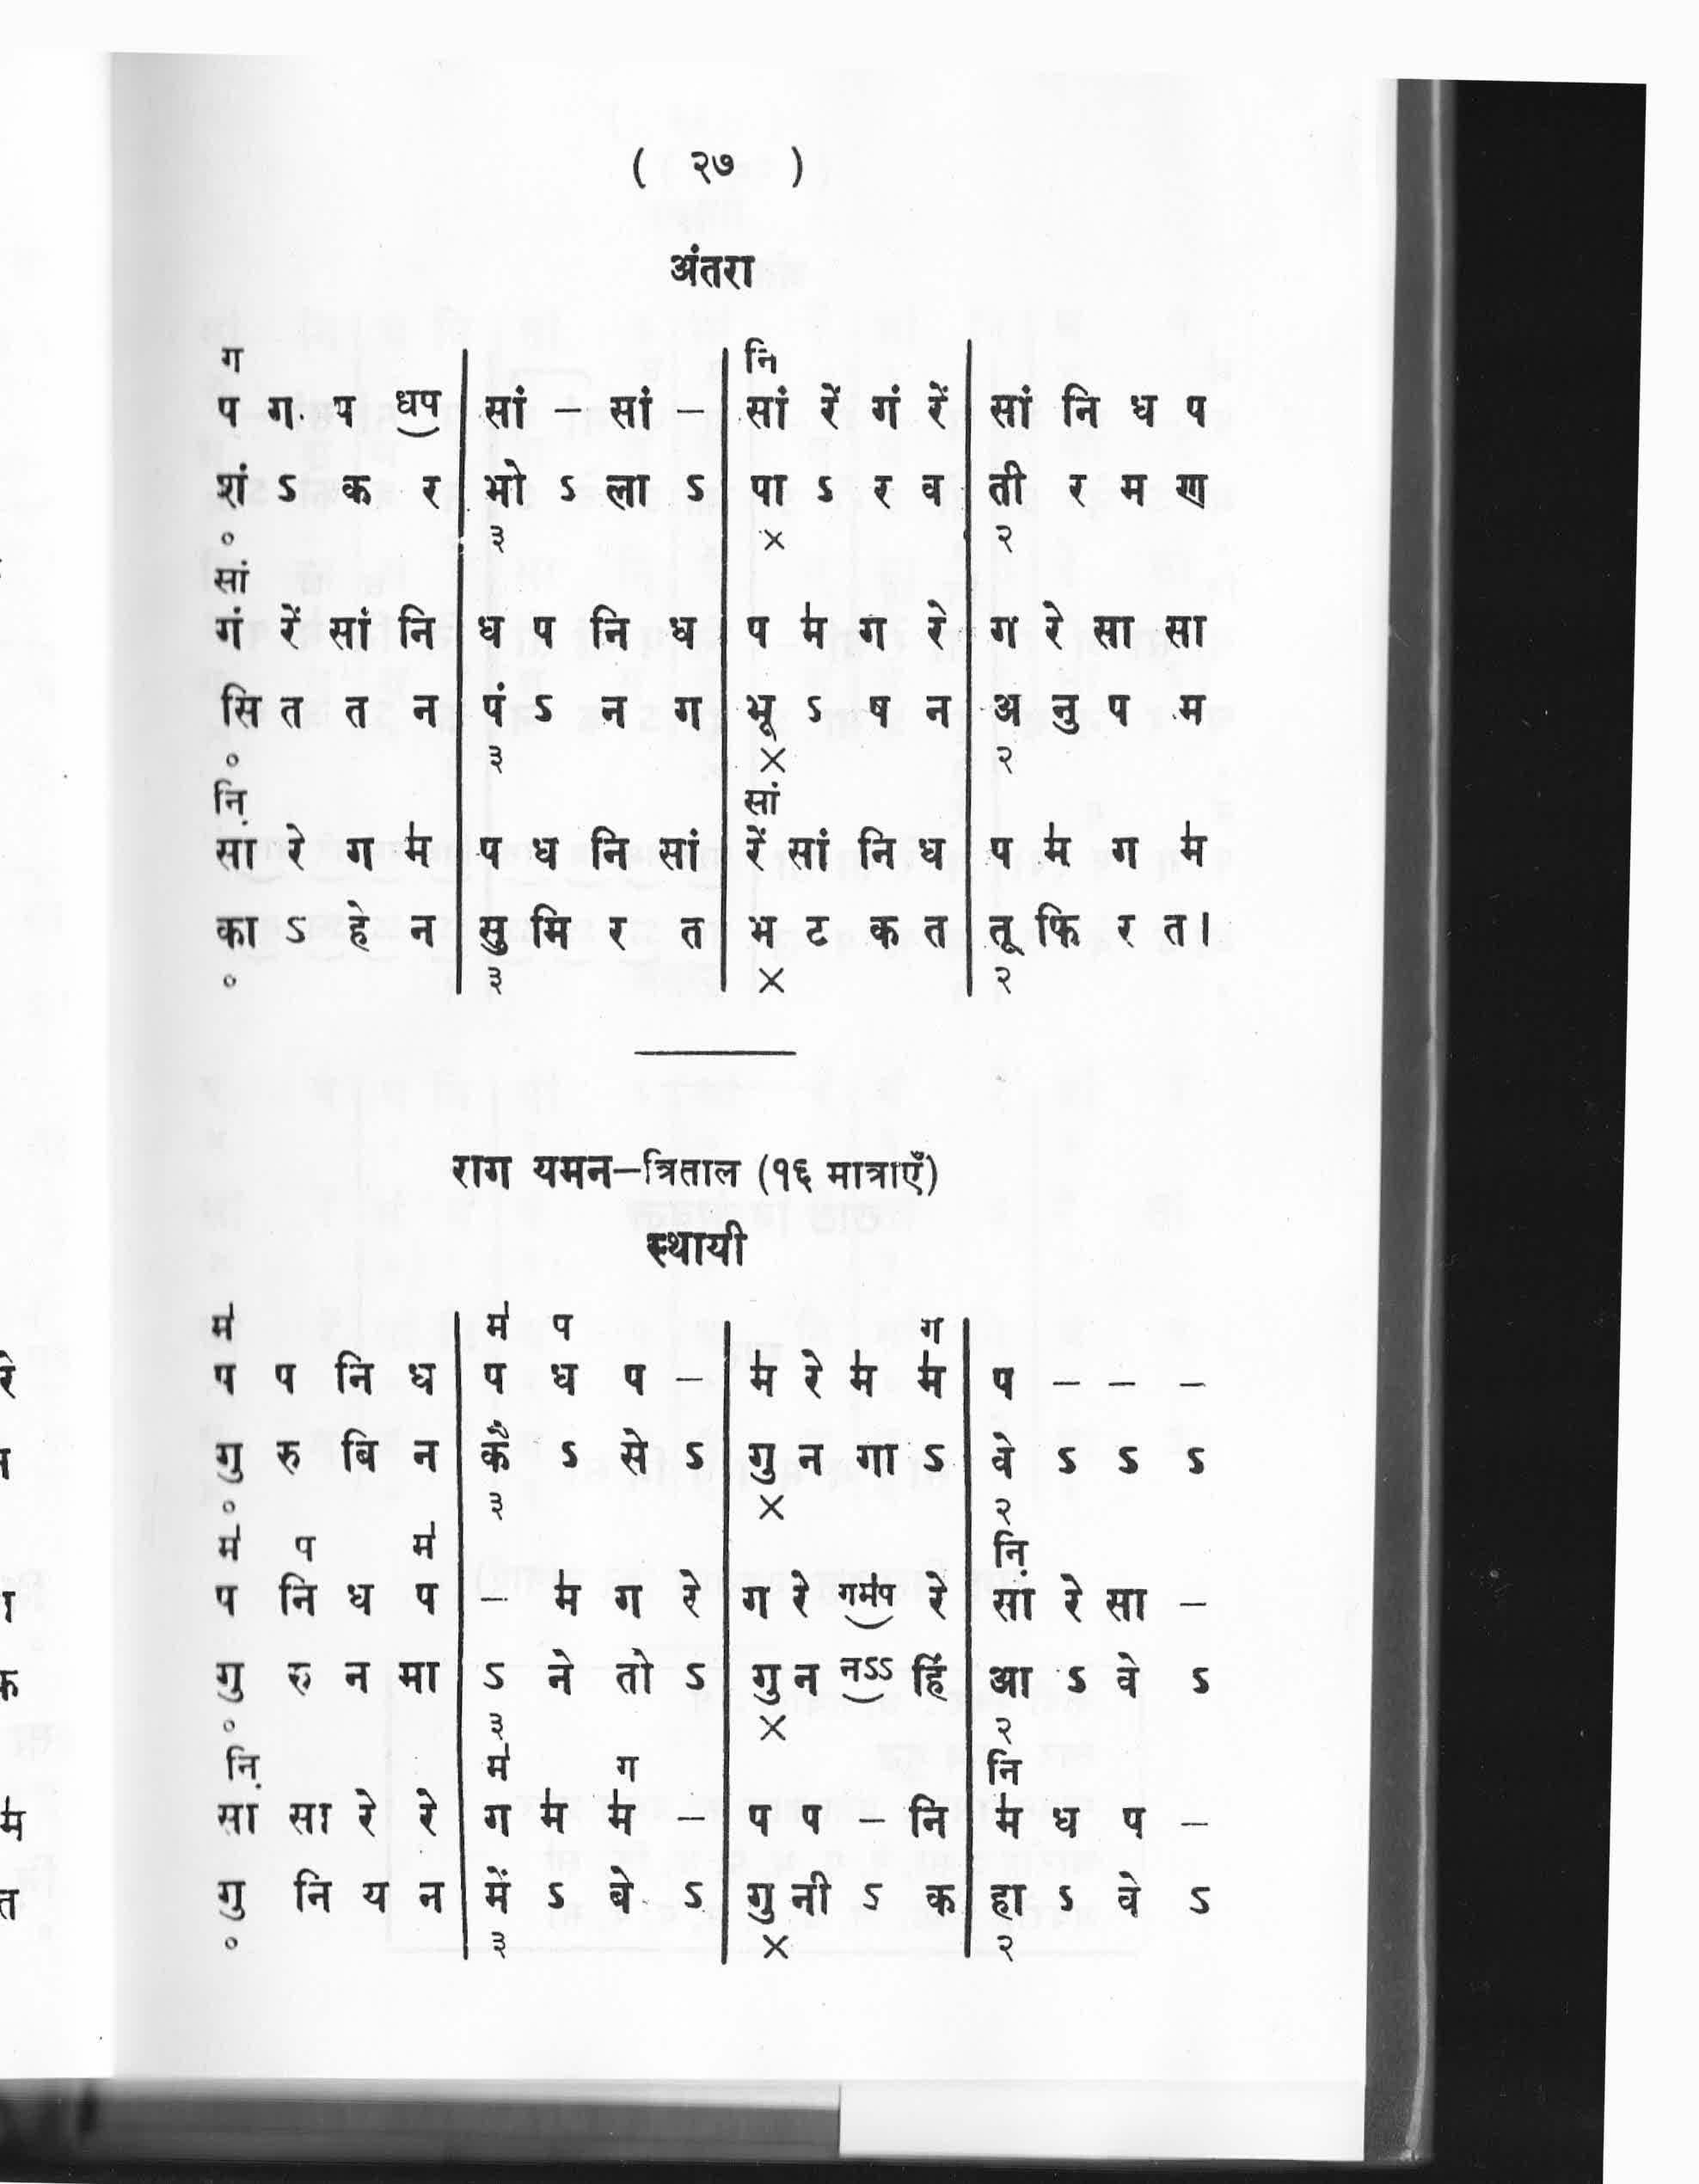char: (328, 1347, 374, 1397), (337, 1425, 381, 1477), (277, 1571, 317, 1624), (614, 1645, 654, 1698), (789, 1868, 834, 1916), (990, 1526, 1032, 1576), (906, 1792, 949, 1842), (853, 1441, 904, 1482), (477, 1418, 513, 1477), (910, 1652, 949, 1705), (617, 1423, 653, 1480), (915, 1345, 949, 1404), (223, 1743, 264, 1790), (293, 1867, 333, 1915), (284, 1799, 335, 1837), (1103, 1583, 1147, 1626), (215, 1876, 252, 1925), (988, 1663, 1034, 1702), (216, 1798, 259, 1838), (991, 1585, 1036, 1624), (397, 1659, 443, 1696), (1055, 1571, 1087, 1624), (215, 1657, 248, 1707), (796, 1347, 826, 1402), (745, 1441, 780, 1487), (991, 1427, 1020, 1484), (747, 1345, 777, 1399), (990, 1881, 1029, 1922), (213, 1438, 245, 1487), (676, 1565, 704, 1620), (607, 1783, 635, 1838), (848, 1349, 878, 1400), (1110, 1649, 1140, 1700), (991, 1789, 1022, 1840), (537, 1785, 568, 1837), (610, 1579, 647, 1620), (922, 1877, 959, 1918), (546, 1645, 575, 1698), (353, 1782, 380, 1838), (750, 1663, 784, 1707), (745, 1879, 777, 1925), (1114, 1867, 1140, 1922), (787, 1564, 812, 1622), (986, 1746, 1023, 1785), (553, 1567, 582, 1617), (924, 1565, 949, 1622), (484, 1865, 513, 1915), (608, 1863, 635, 1915), (206, 1301, 238, 1344), (341, 1656, 372, 1698), (410, 1438, 443, 1477), (740, 1581, 773, 1620), (481, 1801, 514, 1840), (410, 1519, 440, 1562), (548, 1361, 582, 1399), (1050, 1801, 1082, 1840), (275, 1438, 305, 1478), (213, 1581, 243, 1622), (417, 1787, 440, 1840), (795, 1441, 826, 1478), (284, 1659, 314, 1698), (484, 1301, 513, 1342), (482, 1743, 511, 1783), (915, 1312, 949, 1345), (757, 1712, 791, 1746), (791, 1661, 821, 1698), (622, 1361, 651, 1400), (216, 1523, 243, 1564), (211, 1358, 239, 1395), (481, 1360, 509, 1397), (346, 1581, 374, 1617), (413, 1579, 440, 1617), (417, 1881, 445, 1915), (271, 1361, 298, 1397), (557, 1438, 583, 1473), (800, 1803, 826, 1838), (1121, 1805, 1147, 1840), (364, 1879, 390, 1915), (991, 1363, 1016, 1400), (757, 1493, 787, 1523), (410, 1361, 436, 1395), (683, 1438, 708, 1473), (922, 1441, 947, 1477), (1055, 1441, 1080, 1477), (1116, 1441, 1140, 1477), (681, 1877, 706, 1913), (750, 1801, 773, 1838), (991, 1496, 1018, 1528), (552, 1310, 576, 1344), (837, 1652, 862, 1686), (857, 1571, 878, 1610), (1188, 1883, 1211, 1918), (763, 1930, 791, 1959), (482, 1659, 507, 1691), (683, 1661, 708, 1693), (860, 1879, 885, 1911), (1186, 1441, 1208, 1477), (614, 1755, 642, 1782), (1190, 1665, 1211, 1698), (995, 1930, 1016, 1964), (544, 1877, 566, 1911), (484, 1491, 507, 1521), (294, 1533, 317, 1564), (993, 1716, 1016, 1746), (1066, 1665, 1087, 1695), (486, 1712, 507, 1743), (878, 1581, 899, 1610), (489, 1927, 509, 1957), (837, 1579, 857, 1608), (1055, 1883, 1075, 1911), (676, 1812, 708, 1828), (676, 1372, 706, 1386), (858, 1814, 887, 1828), (477, 1594, 509, 1606), (878, 1656, 892, 1682), (864, 1654, 876, 1682), (1174, 1601, 1211, 1610), (1181, 1821, 1210, 1831), (225, 1930, 239, 1952), (1052, 1377, 1084, 1386), (222, 1498, 238, 1516), (1176, 1381, 1208, 1390), (1108, 1381, 1135, 1388), (222, 1720, 236, 1732)
title: (642, 1218, 756, 1273), (663, 241, 763, 300)
